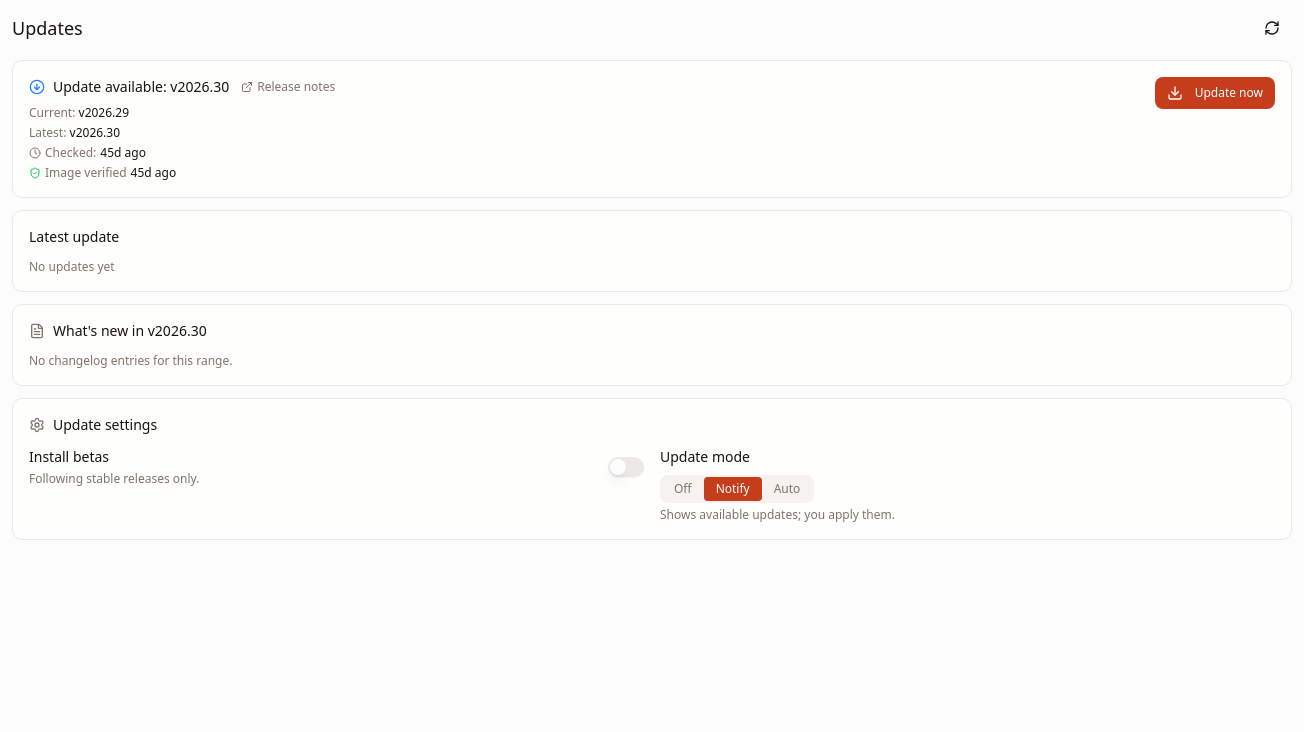
UpdatesSection › version card › offers Update now once the image is verified
The image size is (1304, 732).
Expected: the text "Update available: v2026.30" is shown, [53, 77, 229, 96]
Expected: the text "Image verified" is shown, [45, 165, 127, 181]
Click the button "Update now": (1215, 93) [1155, 77, 1275, 109]
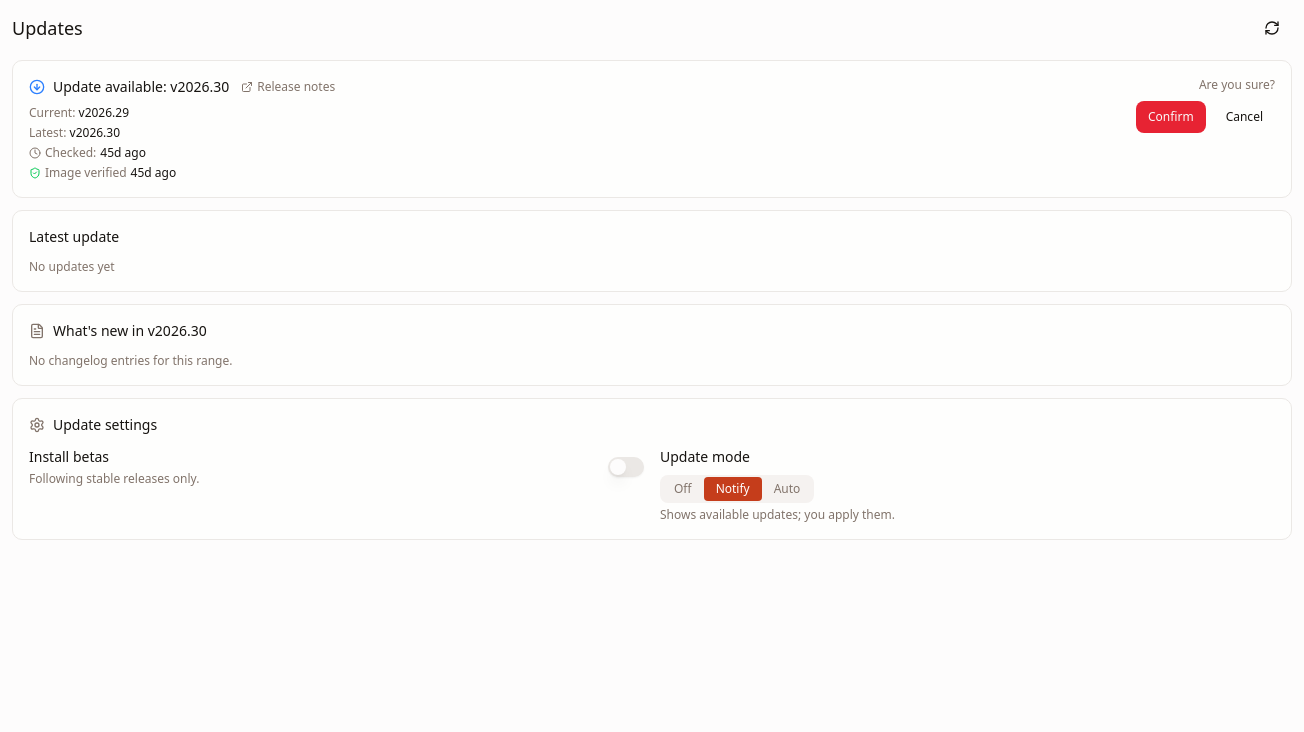
Now the text "Are you sure?" is shown, box [1199, 77, 1275, 93]
